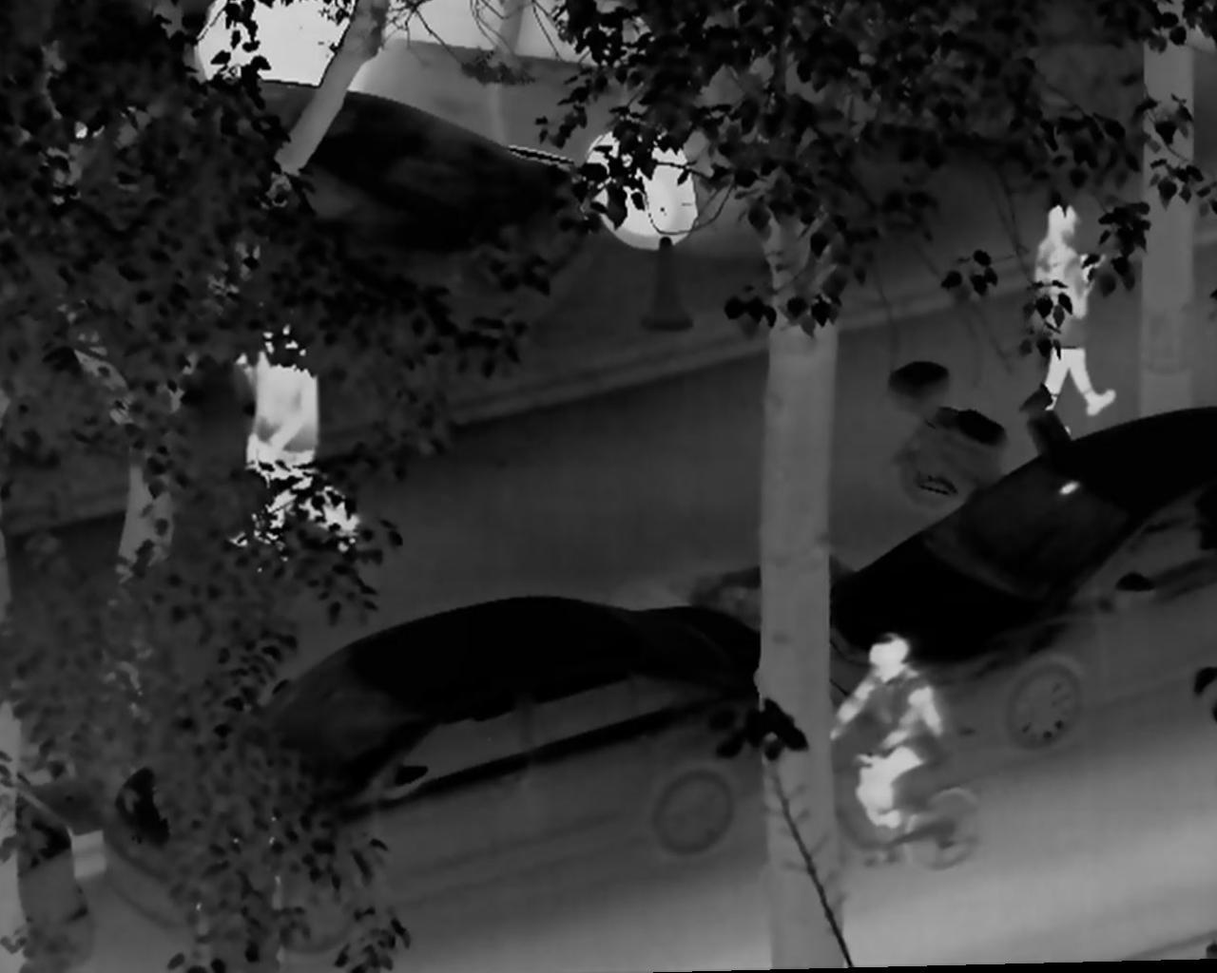person: (241, 313, 360, 578), (224, 296, 336, 554), (823, 629, 950, 852), (1019, 199, 1120, 437)
